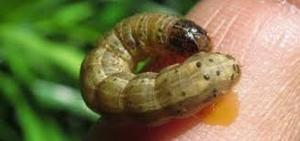fallarmy_worm: (75, 11, 244, 128)
